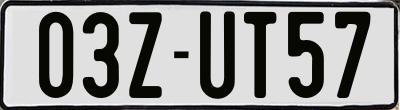0: (36, 11, 70, 100)
3: (83, 9, 122, 100)
5: (288, 11, 327, 97)
7: (335, 10, 371, 97)
T: (242, 11, 278, 98)
U: (197, 8, 236, 99)
Z: (127, 9, 164, 99)
